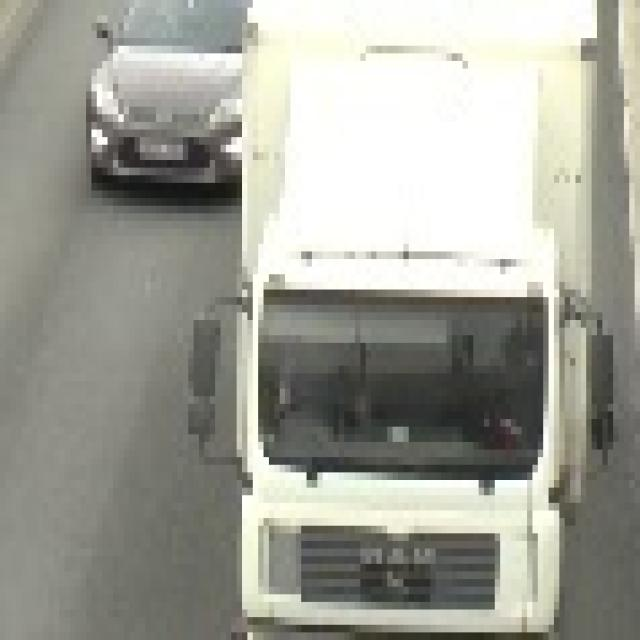car: (188, 0, 608, 625)
